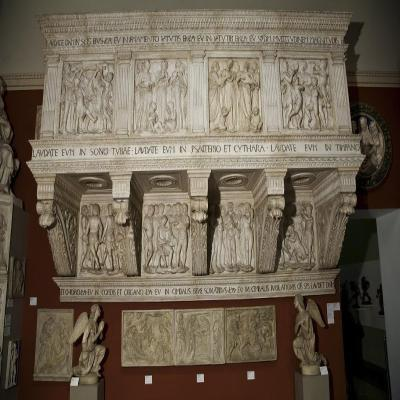sculpture: (27, 11, 364, 304)
